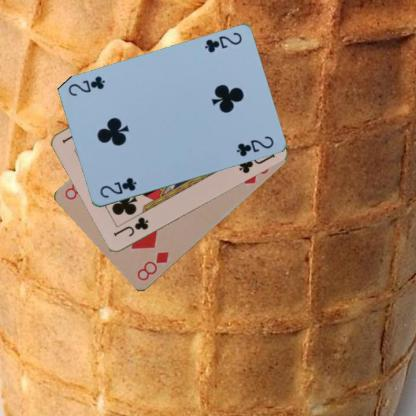2c: (97, 175, 138, 199), (202, 30, 243, 54)
8d: (134, 249, 170, 283)
Jc: (111, 214, 150, 239)
